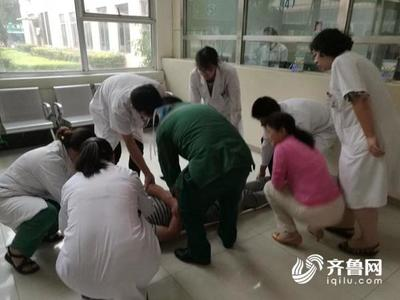fall: (129, 158, 306, 242)
